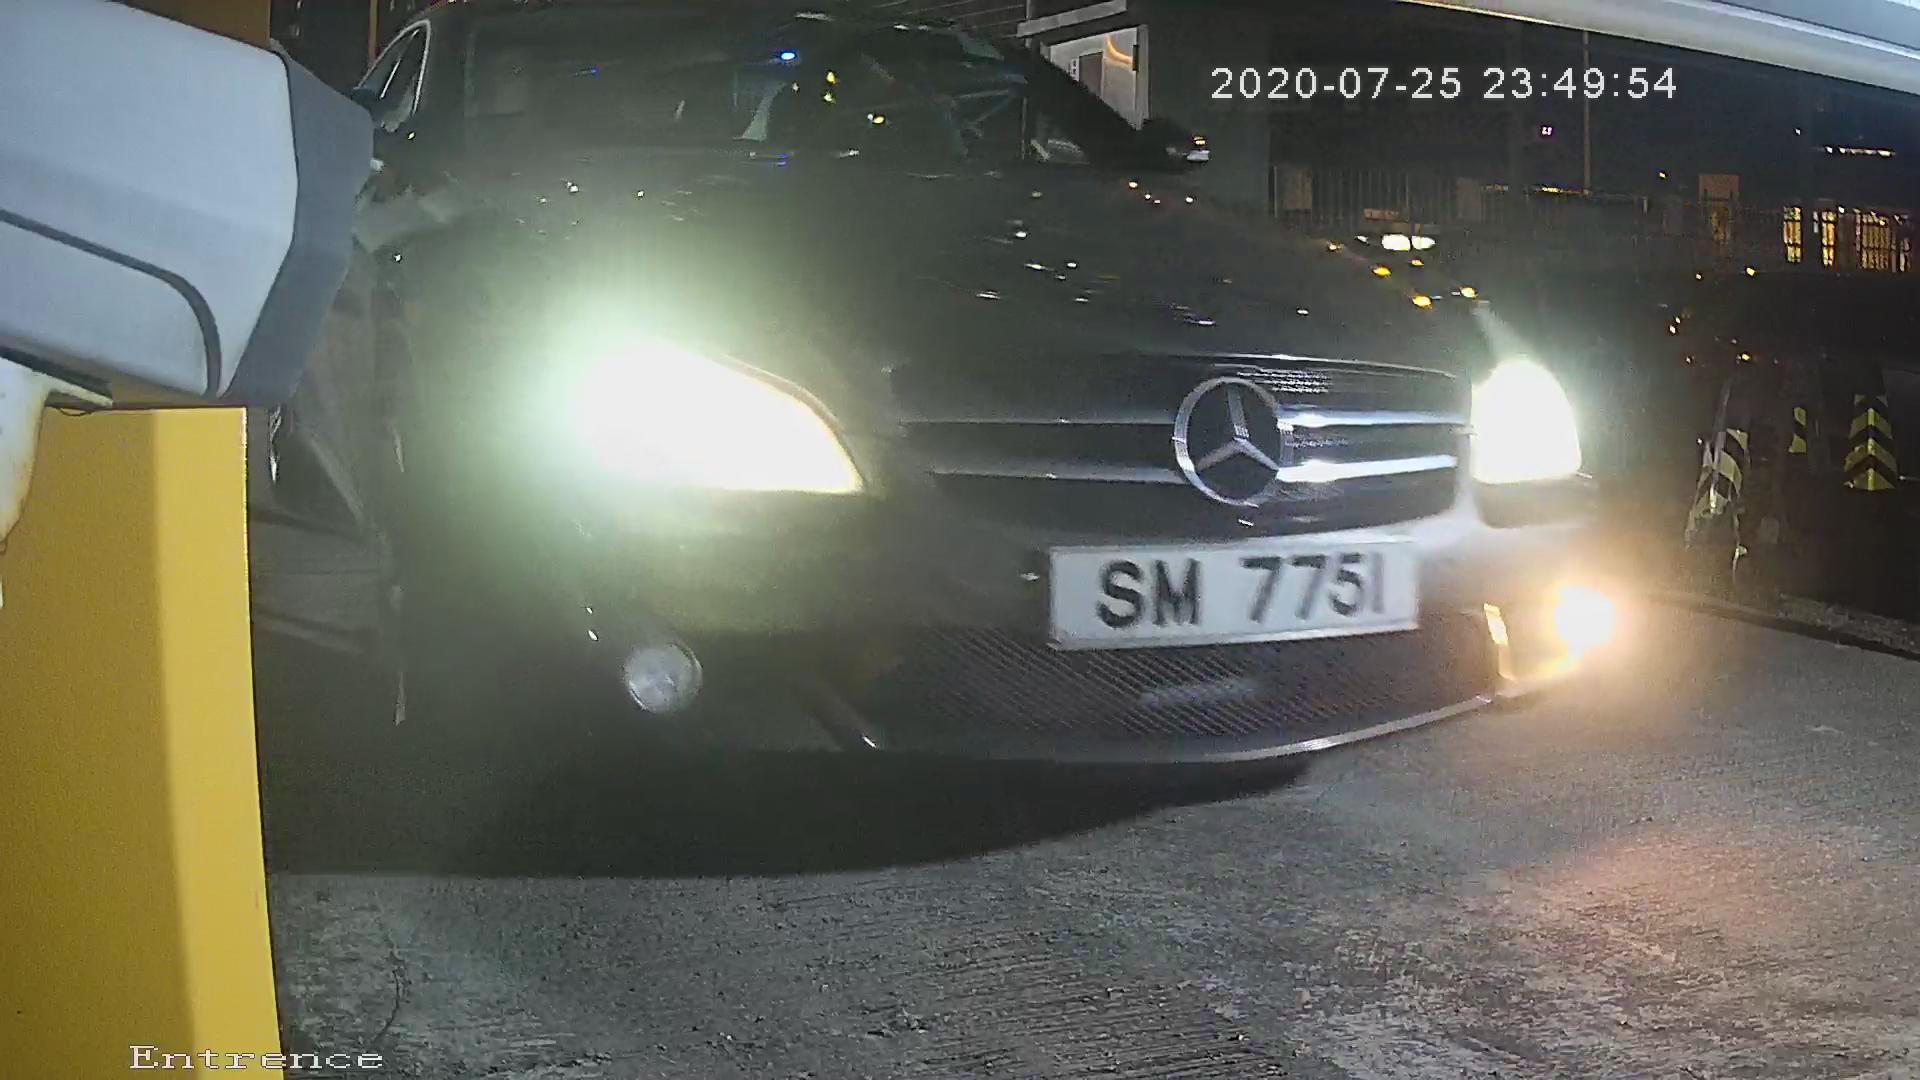Car: (95, 1, 1715, 868)
License Plate: (1003, 513, 1469, 663)
